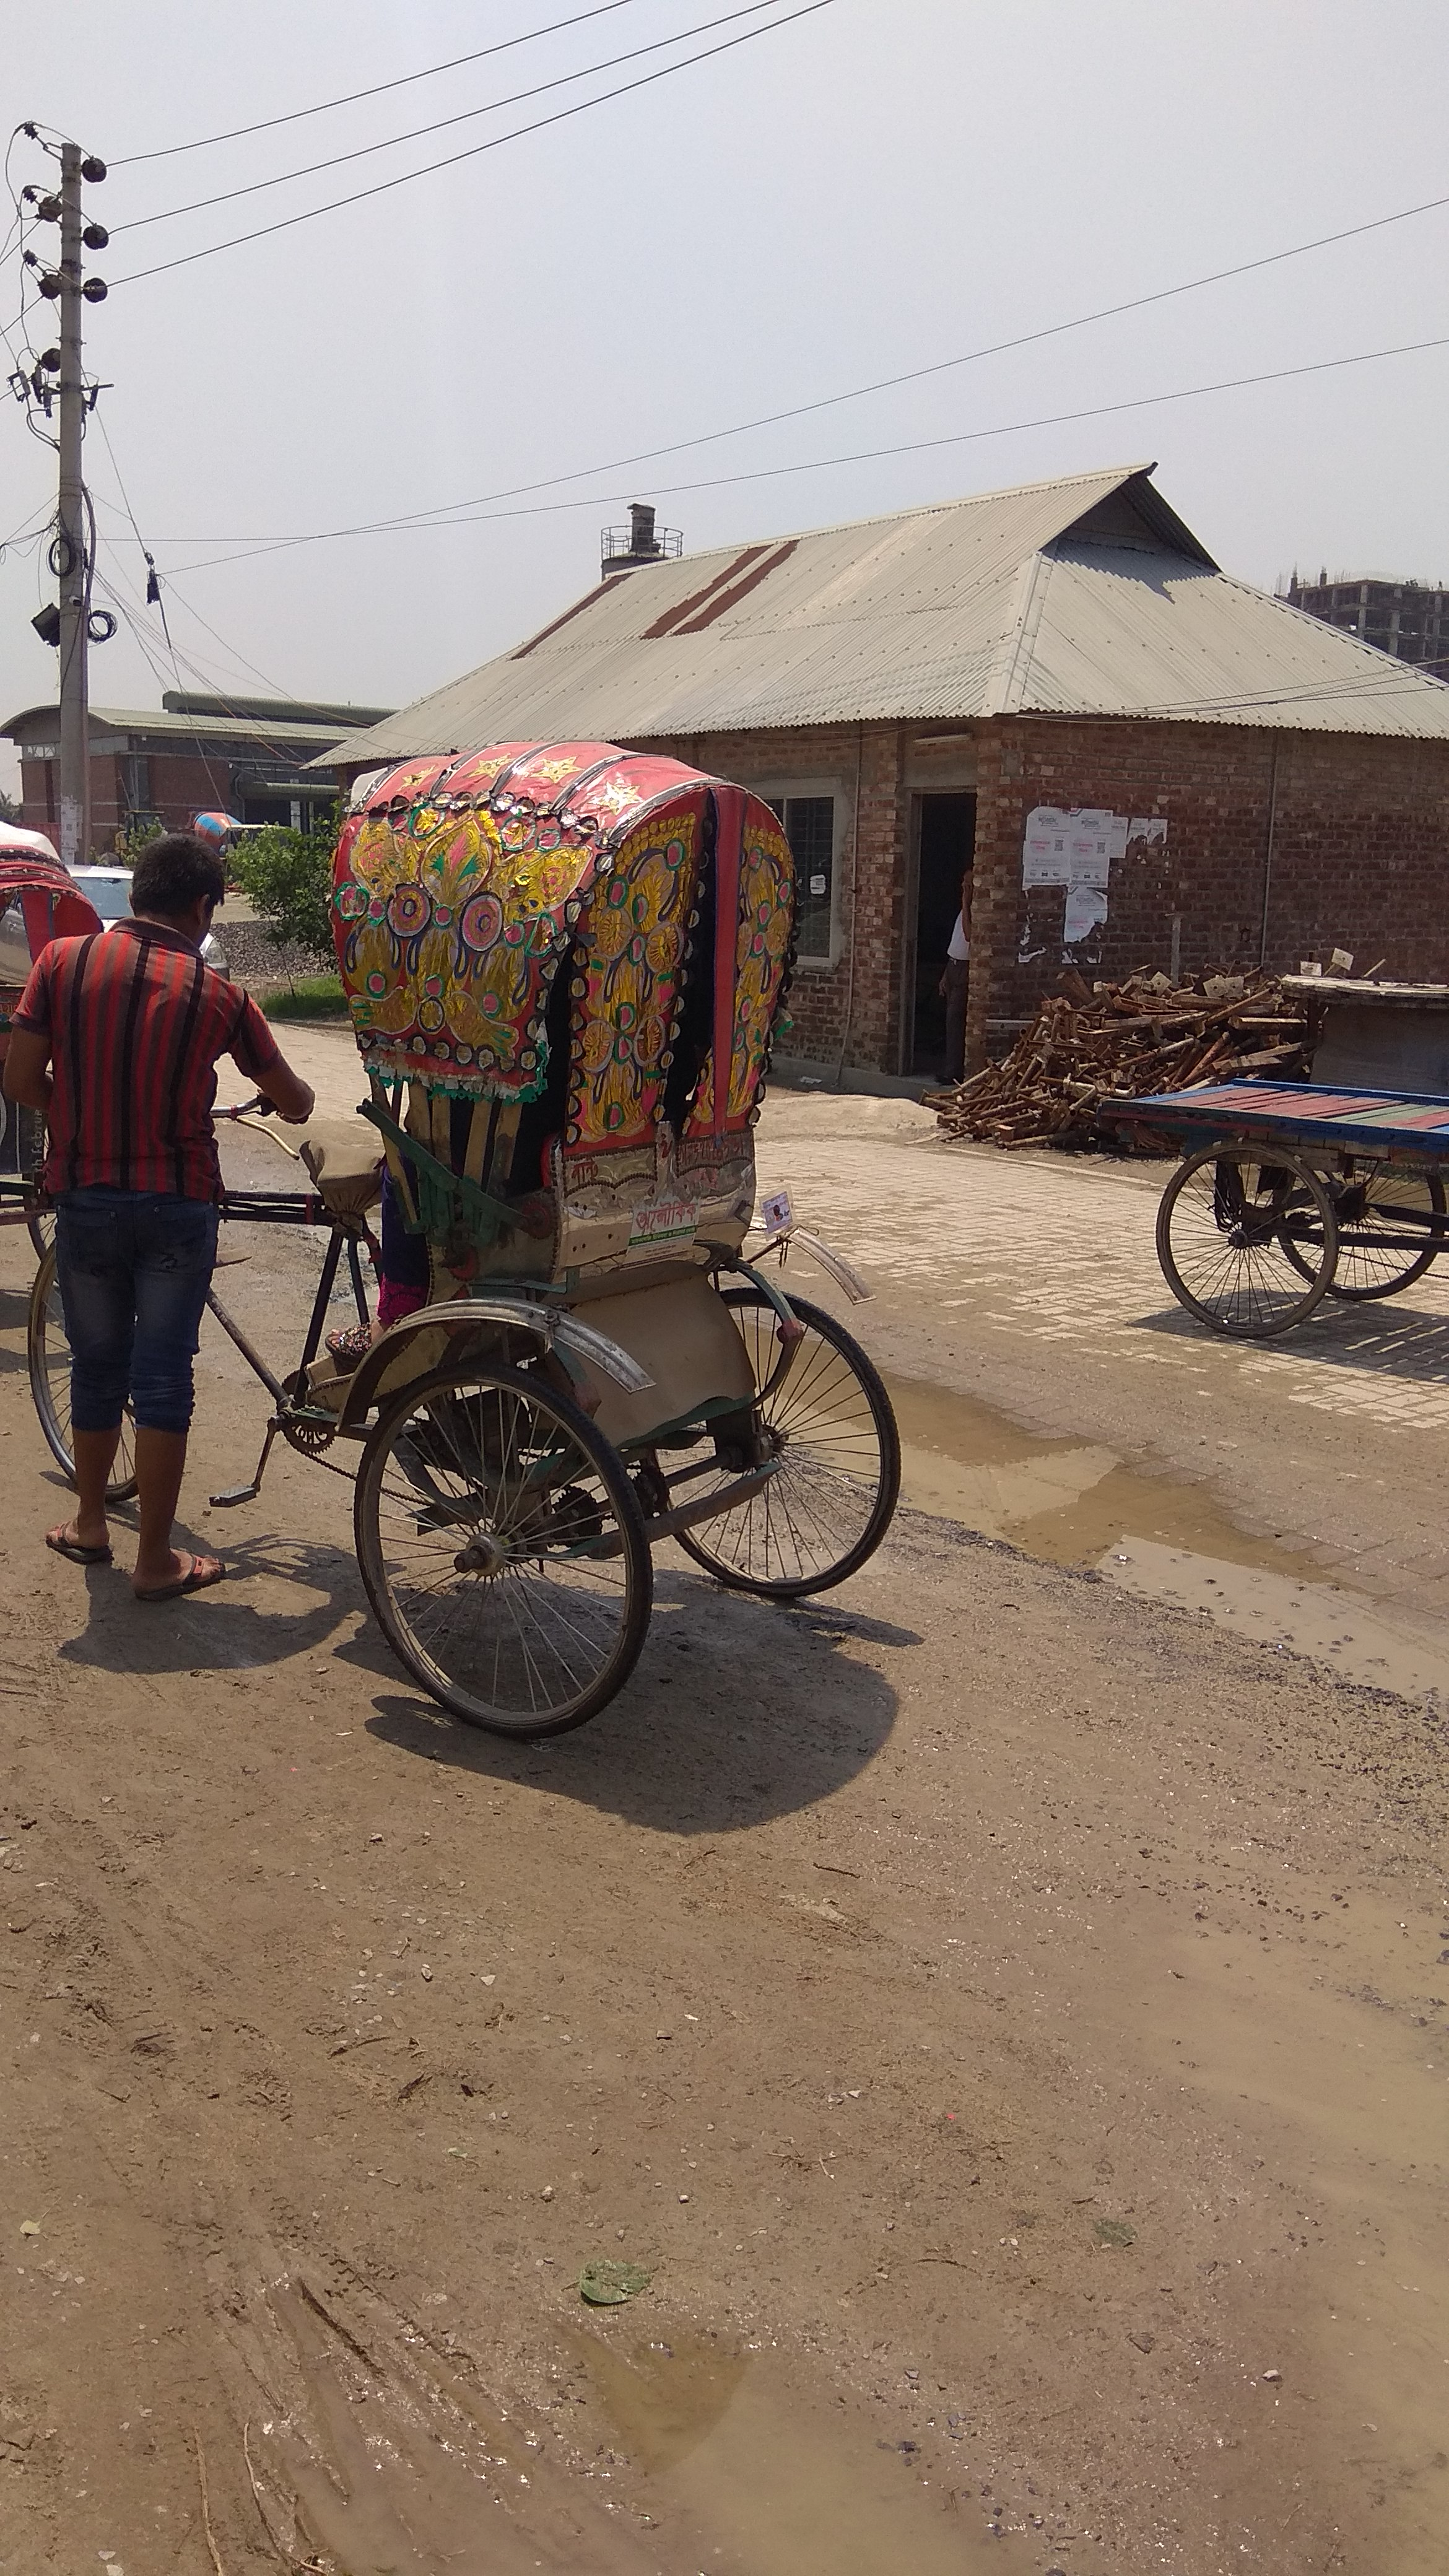Rickshaw: (65, 754, 922, 1750)
